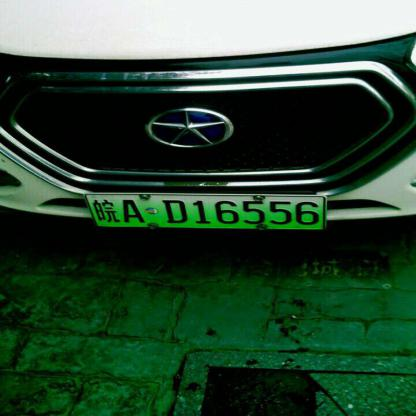lp: (86, 195, 324, 229)
